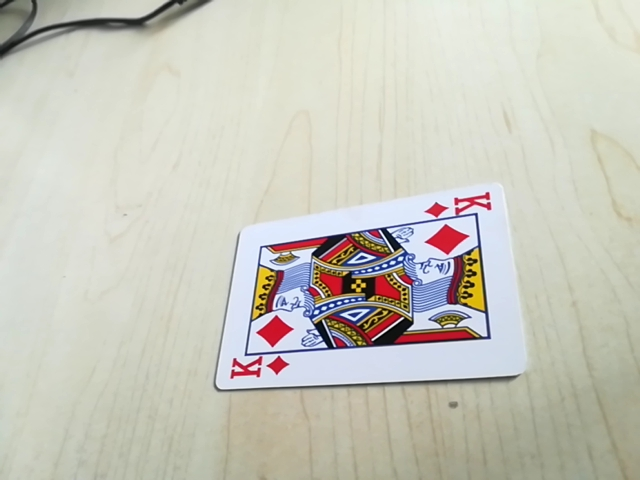fk k: (224, 353, 292, 386), (422, 191, 493, 220)
